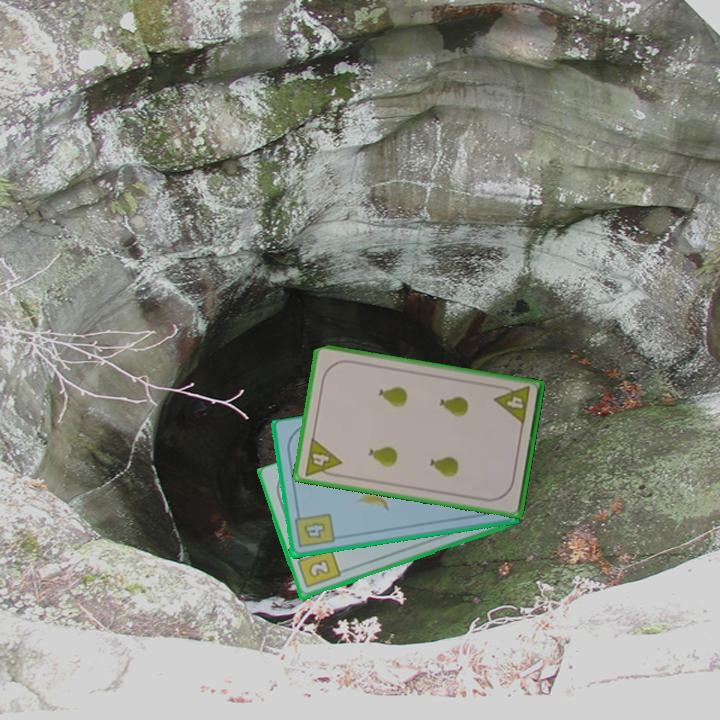2b: (294, 546, 343, 591)
4b: (291, 508, 337, 551)
4p: (301, 434, 344, 480), (491, 382, 533, 427)
